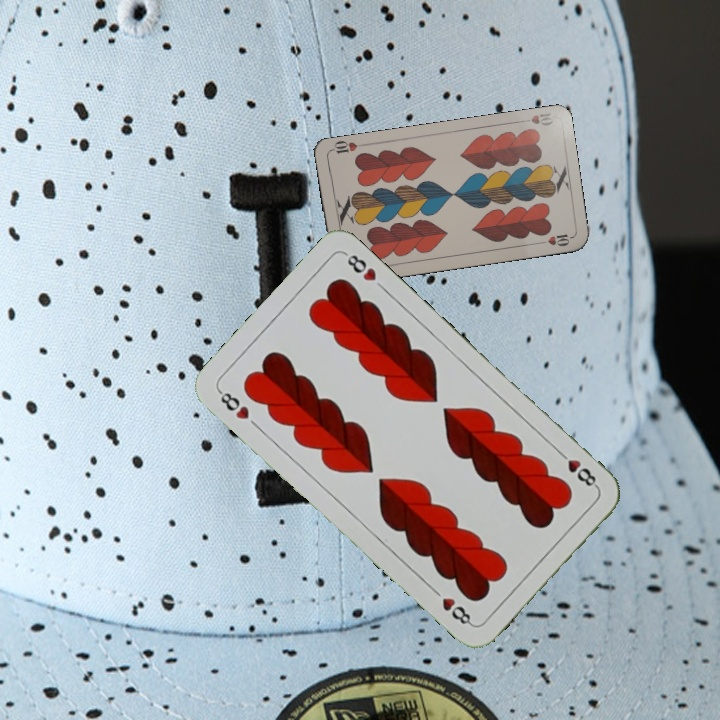H10: (515, 109, 556, 128)
H8: (553, 446, 601, 491), (214, 386, 252, 422)
